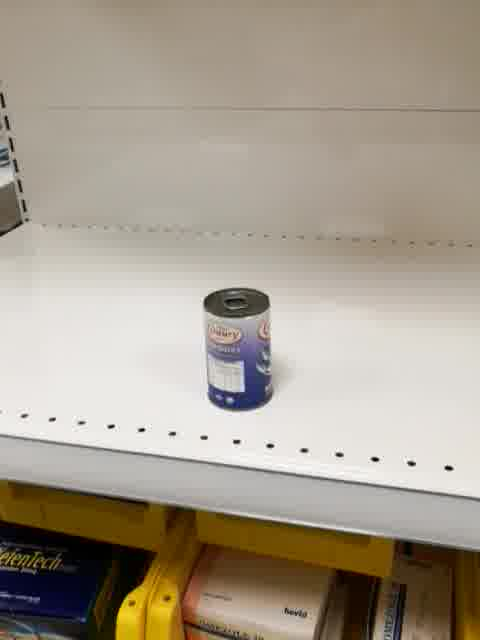sardine: (203, 287, 272, 411)
